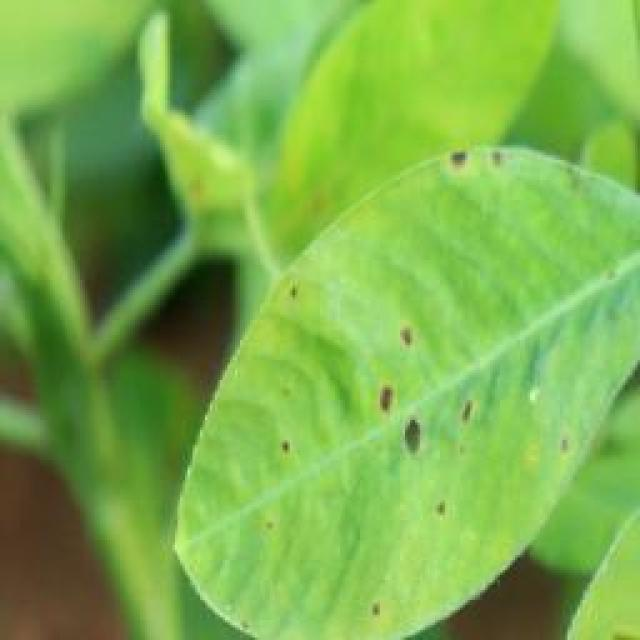Sigatoka: (330, 319, 486, 466), (430, 134, 519, 186), (261, 428, 328, 492), (274, 275, 330, 325), (355, 591, 409, 639), (425, 489, 465, 536), (554, 418, 584, 468)
